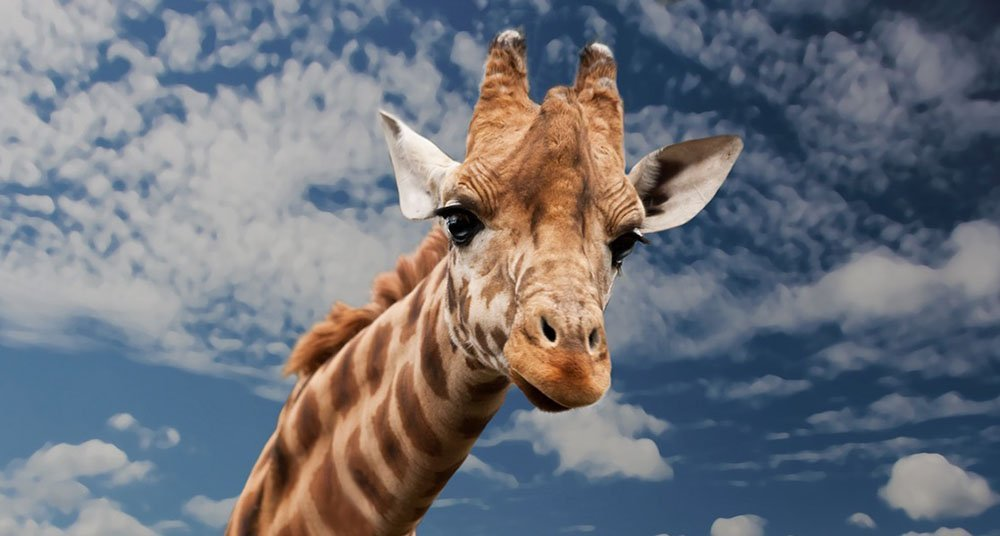Jirafa: (325, 9, 786, 462)
